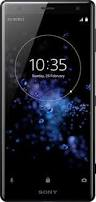sony: (1, 1, 96, 202)
